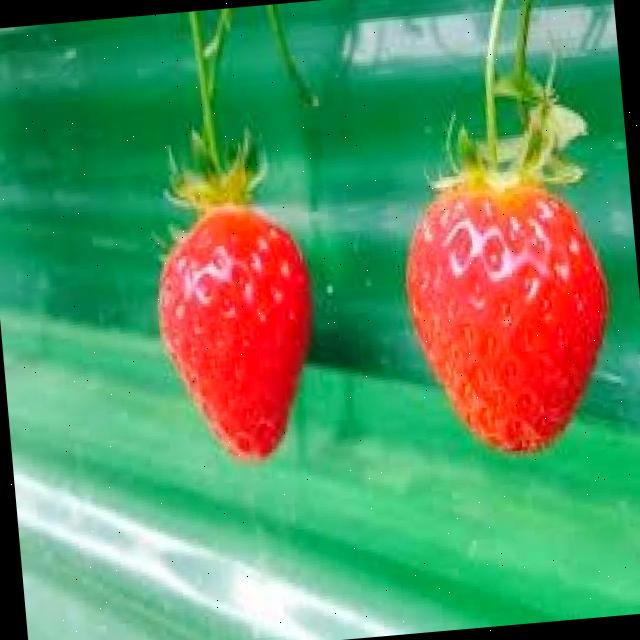strawberry: (396, 171, 620, 458), (149, 198, 324, 467)
